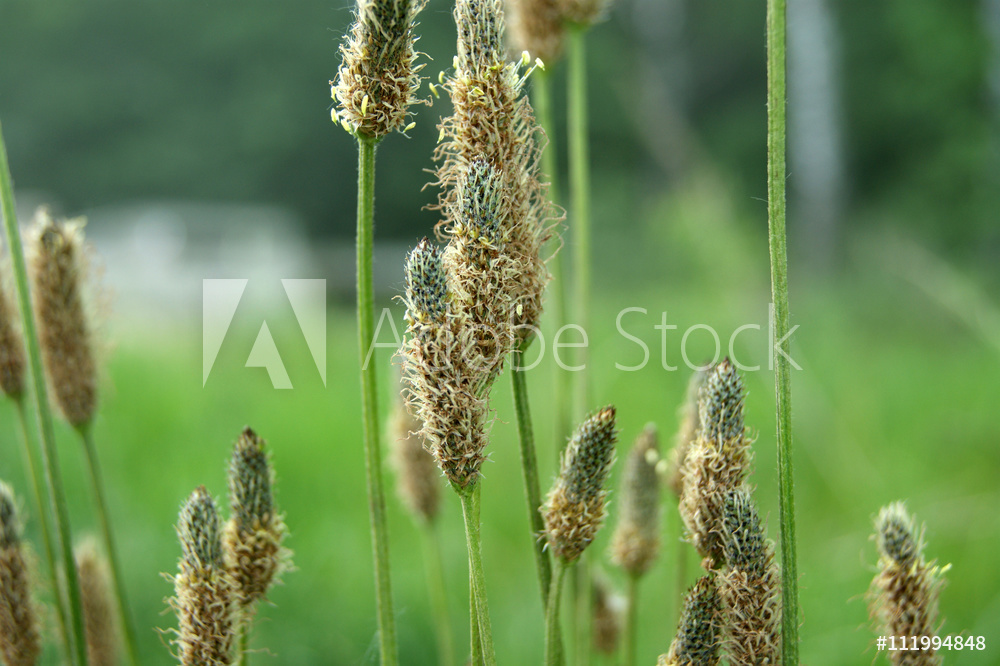buckhorn plantain: (566, 354, 964, 666), (410, 2, 558, 589), (162, 395, 314, 666), (331, 1, 420, 361)
